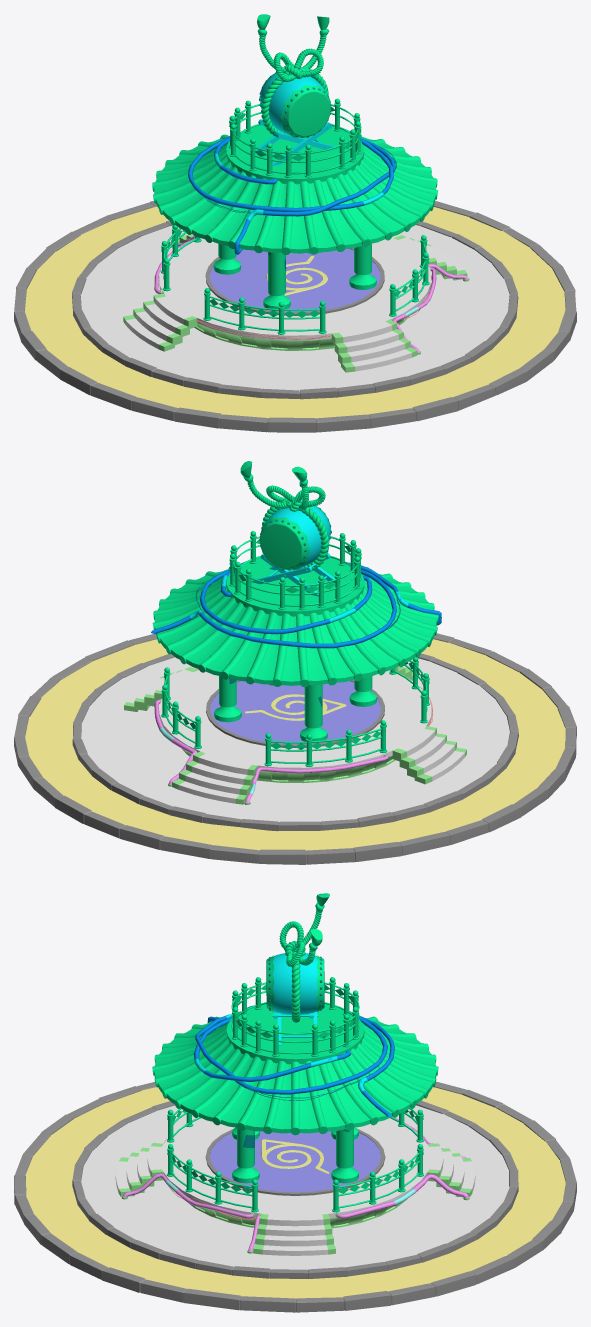
Rendered from SM_ENV_LKNVLD_Event_HL_WoodenStage_A_Lod1.gltf.
3 views of the same model, one above another, from view 1: azimuth 30°, elevation 25°; view 2: azimuth 150°, elevation 25°; view 3: azimuth 270°, elevation 25° (orthographic).
Visible parts, largest first — view 1: SM_ENV_LKNVLD_Event_HL_WoodenStage_A_Lod1; view 2: SM_ENV_LKNVLD_Event_HL_WoodenStage_A_Lod1; view 3: SM_ENV_LKNVLD_Event_HL_WoodenStage_A_Lod1.
Boxes of the visible parts, x1,y1,x2,y2 form: SM_ENV_LKNVLD_Event_HL_WoodenStage_A_Lod1: (14, 14, 576, 432); SM_ENV_LKNVLD_Event_HL_WoodenStage_A_Lod1: (14, 461, 576, 864); SM_ENV_LKNVLD_Event_HL_WoodenStage_A_Lod1: (14, 893, 576, 1312).
Bounding box in the file's own units: 19.17 × 10.94 × 19.18.
